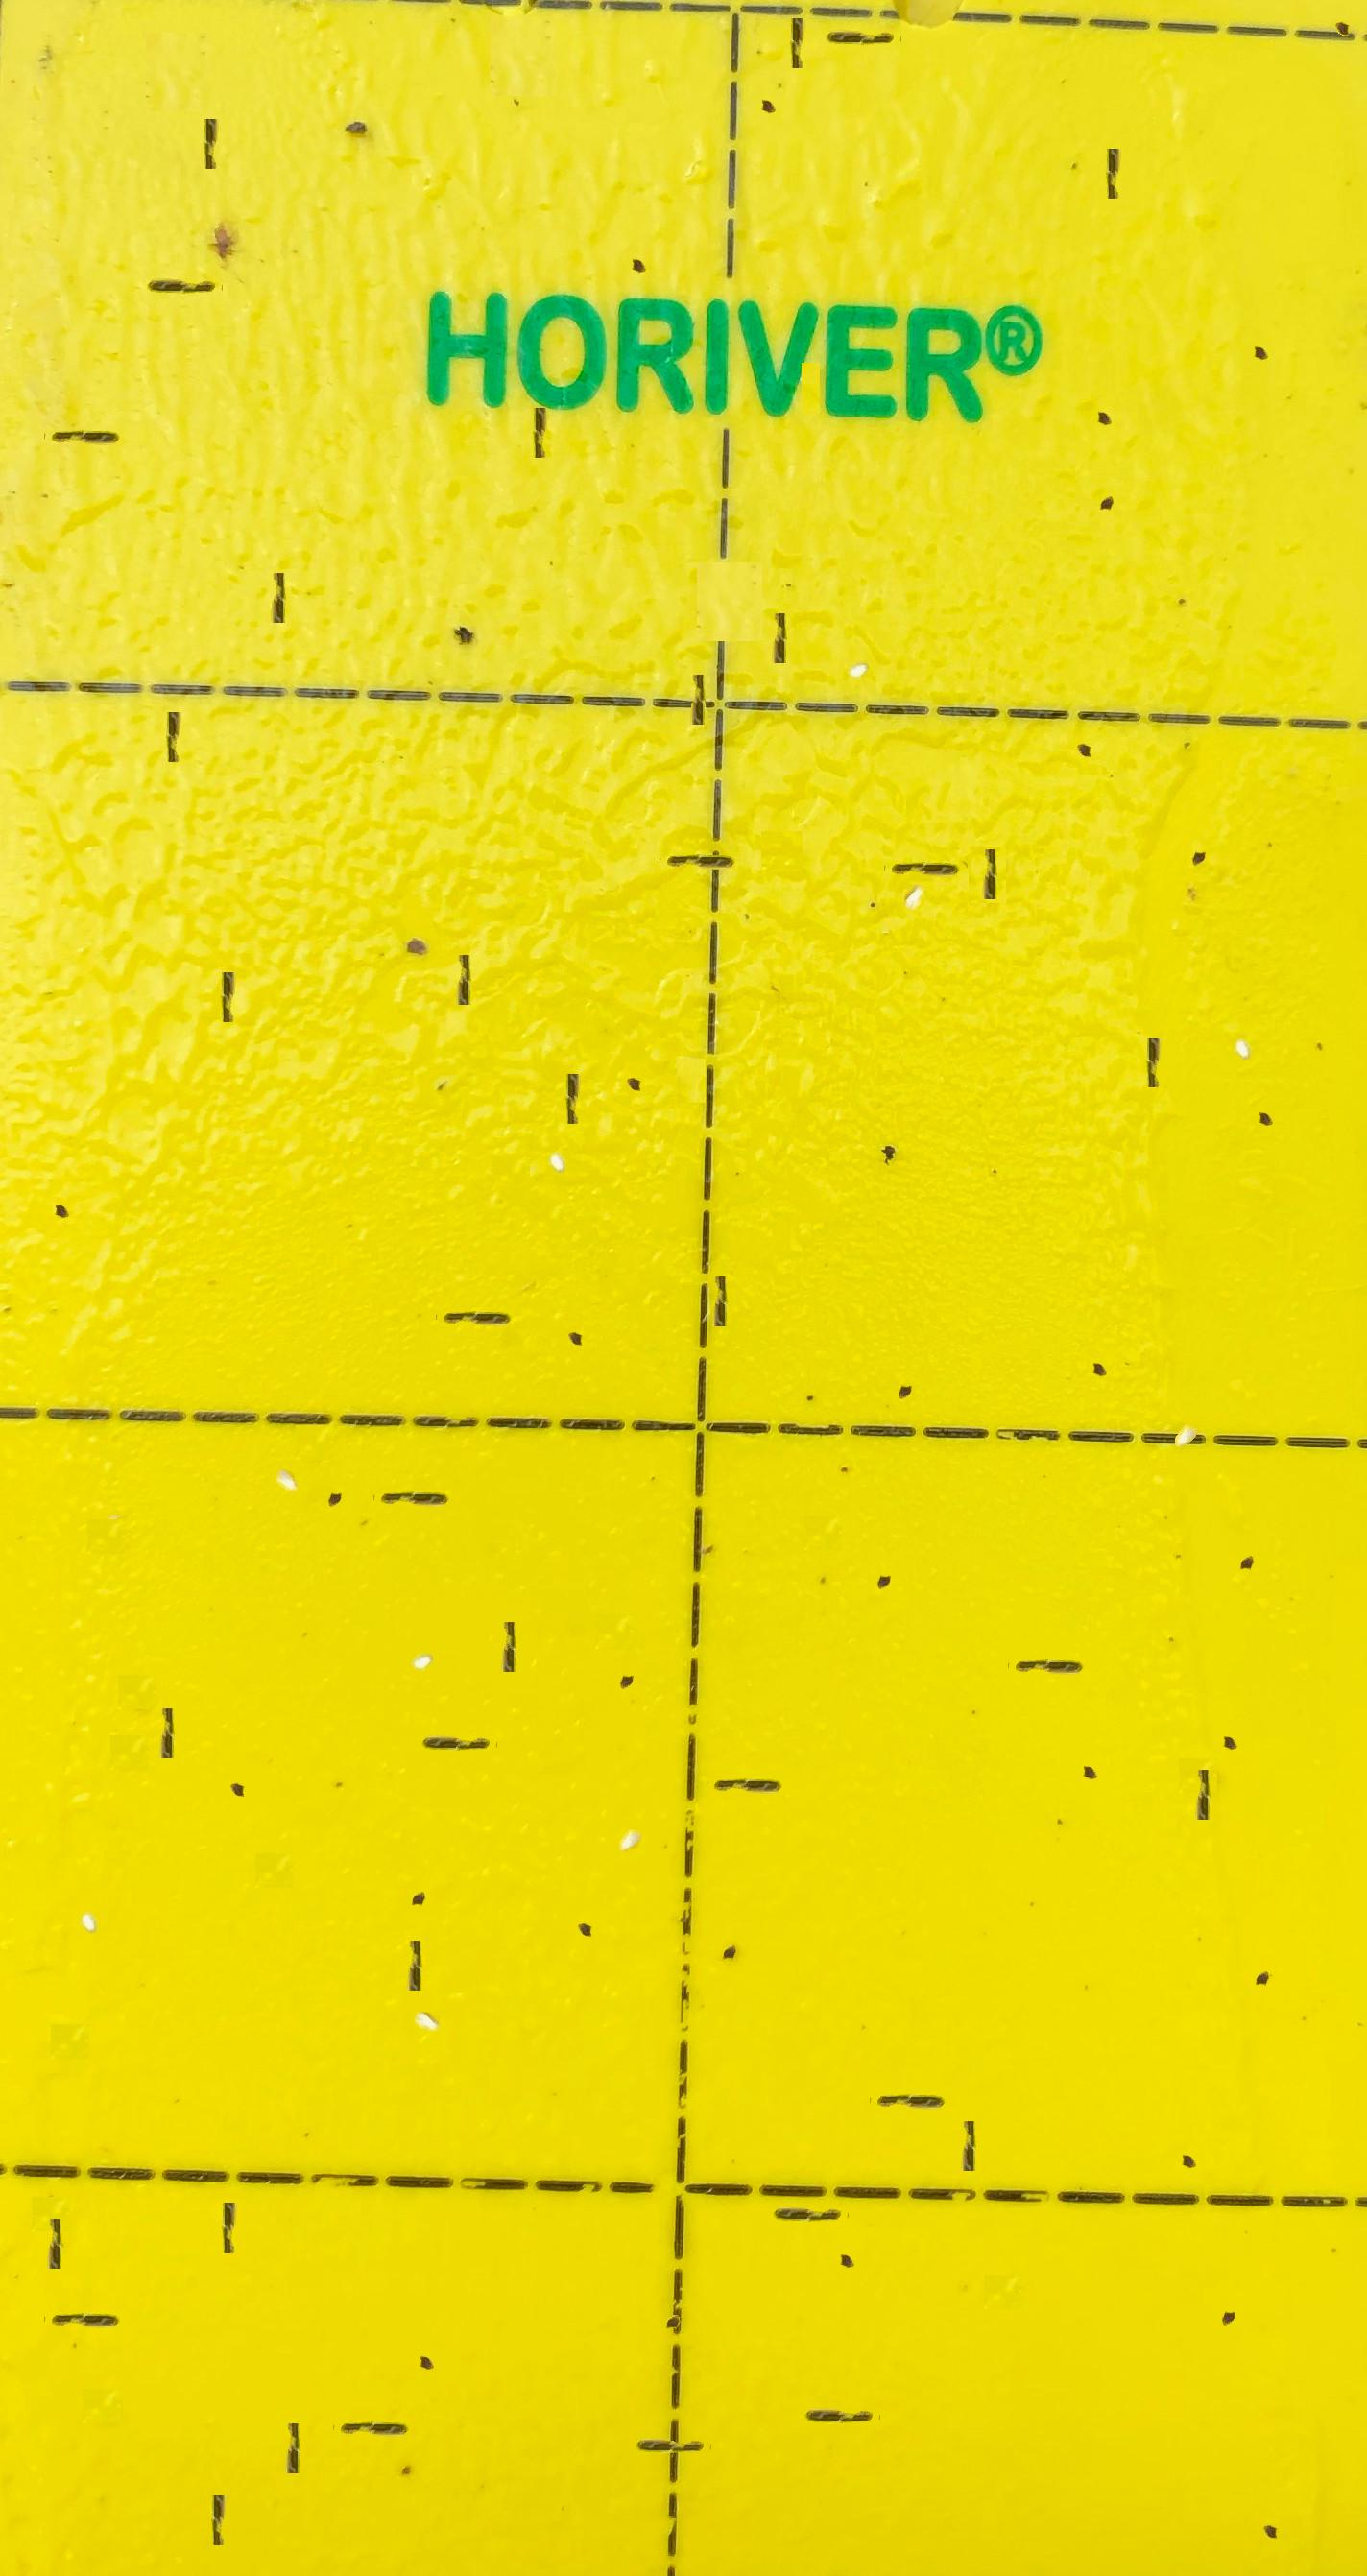white_fly: (537, 1089, 580, 1138), (401, 1590, 443, 1637), (1222, 976, 1265, 1024), (68, 1850, 111, 1898), (837, 598, 878, 646), (264, 1414, 307, 1458), (895, 833, 937, 877), (1166, 1370, 1208, 1414), (404, 1956, 445, 2000), (610, 1775, 651, 1818)
